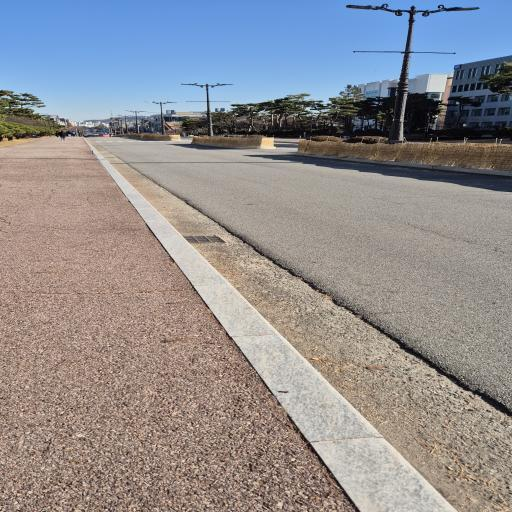drain: (184, 236, 224, 243)
